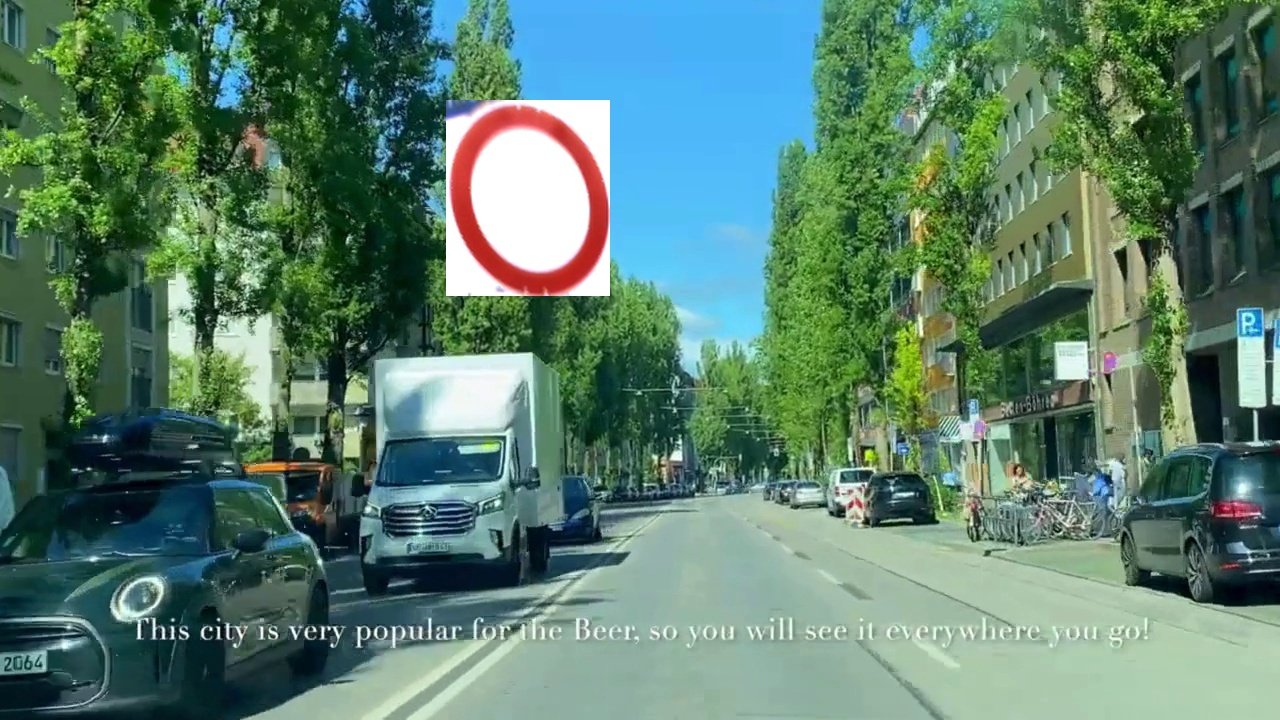No vehicles: (446, 100, 610, 296)
